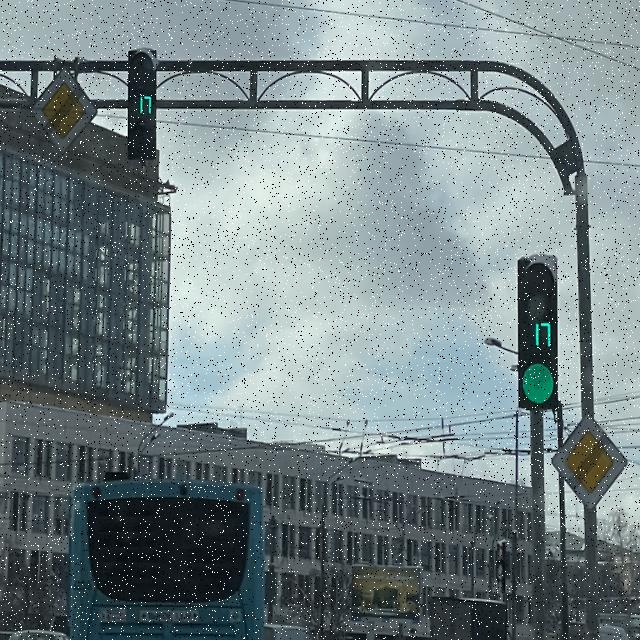конец главной дороги: (551, 415, 628, 510), (31, 70, 95, 156)
